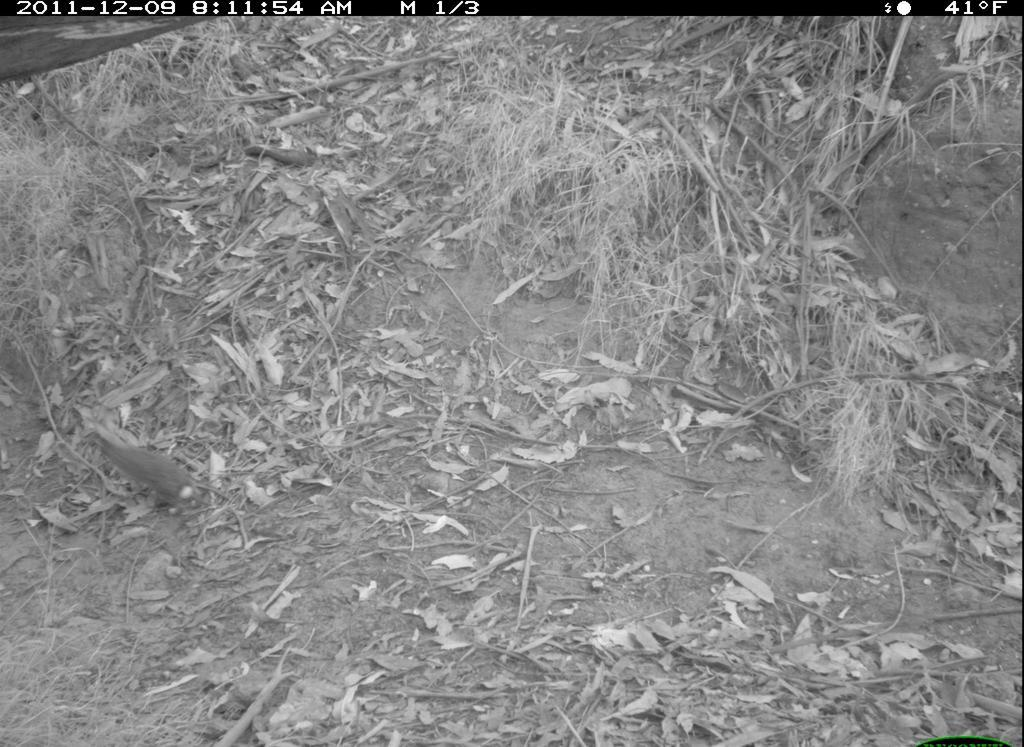rabbit: (81, 418, 232, 530)
